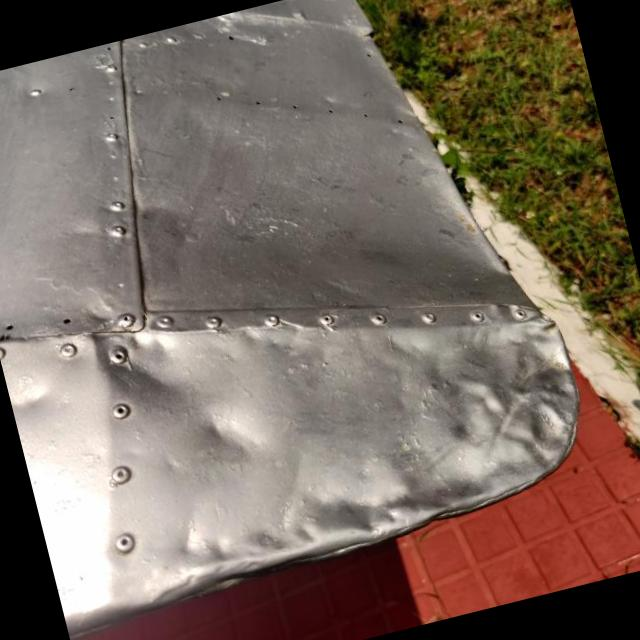Dent: (137, 468, 438, 610), (405, 312, 579, 514), (188, 387, 286, 482), (92, 330, 194, 420), (1, 349, 62, 436)
